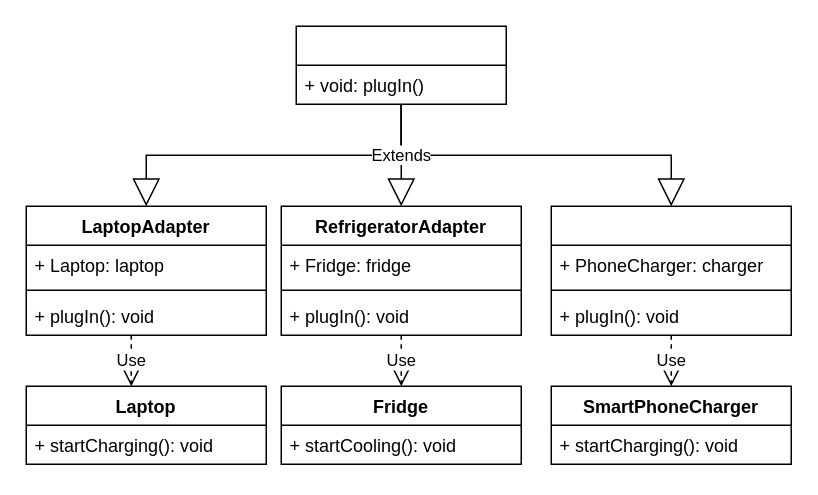
This 818x495 diagram has some shape labels left out. The shapes that lost their labels are listed below. From the top down, each one's box as (x1, y1, x2, y2) in pixels, then its label:
(295, 25, 506, 104): Adapter
(550, 205, 791, 335): SmartphoneAdapter
